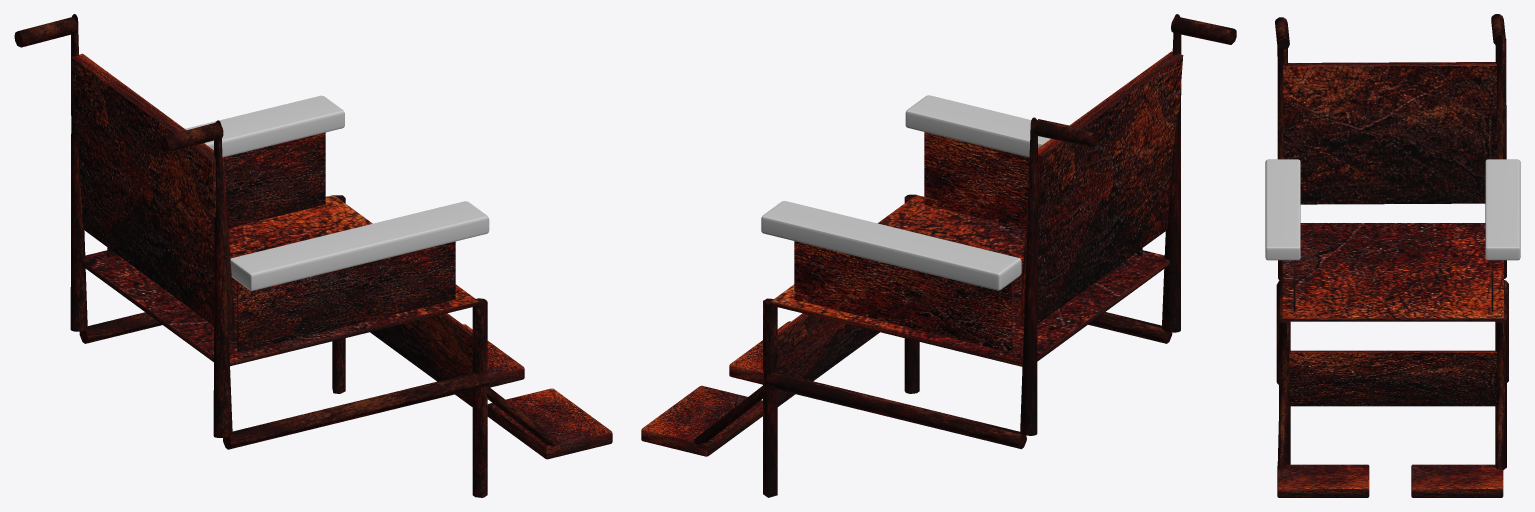
Rendered from body.fbx.
3 views of the same model, side by side, from view 1: azimuth 30°, elevation 25°; view 2: azimuth 150°, elevation 25°; view 3: azimuth 270°, elevation 25° (orthographic). The views are drawn at different scales.
Visible parts, largest first — view 1: pCube2, pCube5, pCube1, pCube4, pasted__pCube5, pCube7, pasted__pCube4, pCylinder78, pCube6, pasted__pCylinder75, pasted__pCylinder140, pCylinder79 (+6 smaller); view 2: pCube2, pasted__pCube5, pCube1, pasted__pCube4, pCube5, pCube4, pasted__pCube7, pasted__pCylinder78, pCube6, pasted__pCylinder140, pasted__pCylinder75, pasted__pCylinder79 (+6 smaller); view 3: pCube2, pCube1, pCube6, pCube4, pasted__pCube4, pCube7, pasted__pCube7, pasted__pCylinder140, pCylinder79, pasted__pCylinder79, pasted__pCylinder75, pasted__pCylinder80 (+5 smaller).
Part boxes in pixels (left/top/right/bottom): pCube2: left=71, top=53, right=235, bottom=330; pCube5: left=237, top=241, right=455, bottom=352; pCube1: left=81, top=195, right=478, bottom=366; pCube4: left=230, top=201, right=489, bottom=290; pasted__pCube5: left=107, top=132, right=325, bottom=257; pCube7: left=487, top=388, right=612, bottom=459; pasted__pCube4: left=185, top=95, right=344, bottom=157; pCylinder78: left=223, top=372, right=489, bottom=449; pCube6: left=370, top=313, right=472, bottom=406; pasted__pCylinder75: left=213, top=120, right=232, bottom=437; pasted__pCylinder140: left=70, top=14, right=87, bottom=331; pCylinder79: left=472, top=298, right=487, bottom=497; pCube2: left=1018, top=51, right=1183, bottom=326; pasted__pCube5: left=794, top=241, right=1012, bottom=352; pCube1: left=771, top=195, right=1169, bottom=366; pasted__pCube4: left=761, top=201, right=1021, bottom=290; pCube5: left=924, top=132, right=1142, bottom=257; pCube4: left=905, top=95, right=1050, bottom=157; pasted__pCube7: left=641, top=385, right=762, bottom=456; pasted__pCylinder78: left=765, top=372, right=1026, bottom=449; pCube6: left=777, top=313, right=879, bottom=406; pasted__pCylinder140: left=1020, top=117, right=1037, bottom=435; pasted__pCylinder75: left=1162, top=14, right=1181, bottom=332; pasted__pCylinder79: left=763, top=298, right=777, bottom=497; pCube2: left=1283, top=62, right=1497, bottom=204; pCube1: left=1282, top=223, right=1503, bottom=321; pCube6: left=1289, top=350, right=1497, bottom=406; pCube4: left=1265, top=159, right=1300, bottom=260; pasted__pCube4: left=1485, top=159, right=1520, bottom=260; pCube7: left=1277, top=464, right=1369, bottom=497; pasted__pCube7: left=1411, top=464, right=1503, bottom=497; pasted__pCylinder140: left=1495, top=35, right=1506, bottom=278; pCylinder79: left=1279, top=319, right=1290, bottom=464; pasted__pCylinder79: left=1495, top=320, right=1506, bottom=469; pasted__pCylinder75: left=1277, top=36, right=1287, bottom=280; pasted__pCylinder80: left=1495, top=386, right=1505, bottom=469.
Bounding box in the file's own units: 6.69 × 6.26 × 4.31.
